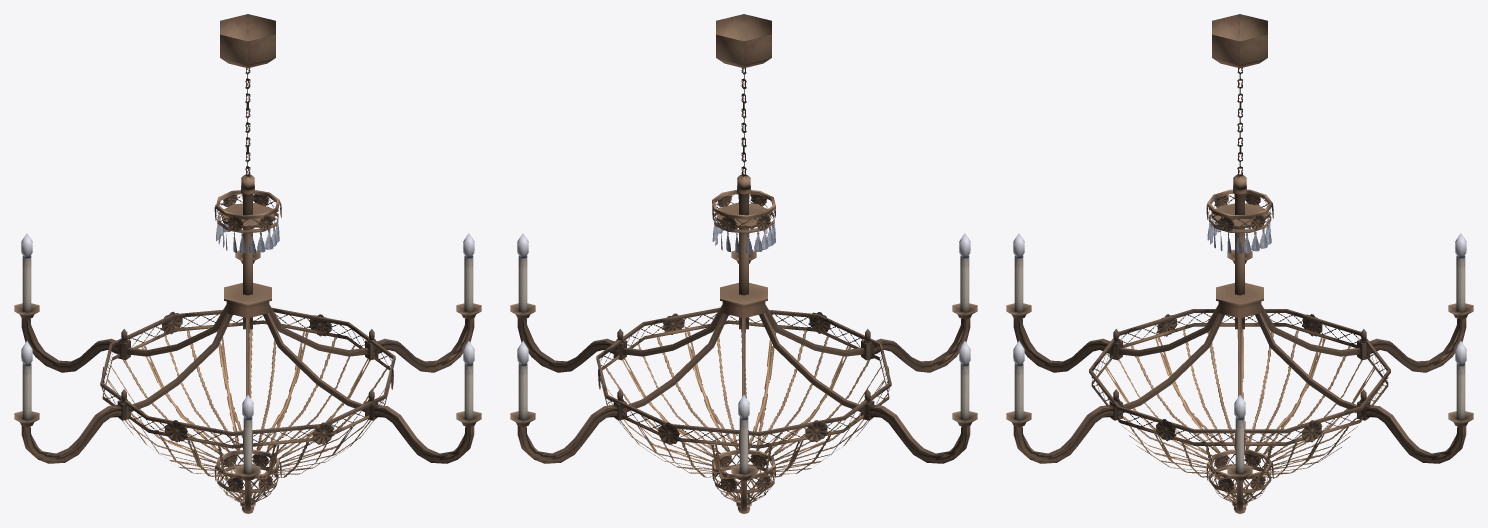
Rendered from furni_0200402.FBX.
3 views of the same model, side by side, from view 1: azimuth 30°, elevation 25°; view 2: azimuth 150°, elevation 25°; view 3: azimuth 270°, elevation 25° (orthographic).
Visible parts, largest first — view 1: furni_0200402; view 2: furni_0200402; view 3: furni_0200402.
Part boxes in pixels (<box>): furni_0200402: <box>14,14,481,513</box>; furni_0200402: <box>510,14,977,513</box>; furni_0200402: <box>1006,14,1473,513</box>.
Bounding box in the file's own units: 80.45 × 80 × 69.68.
Materials: 1 (1 with a texture image).
